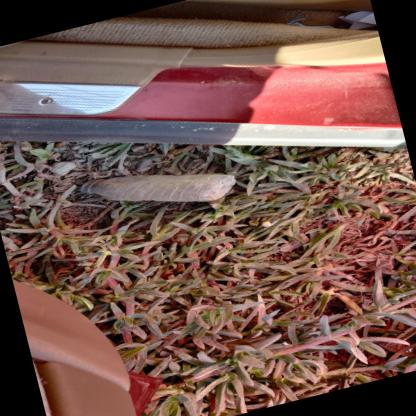Paper: (338, 10, 374, 28)
Plastic: (79, 173, 236, 201), (285, 9, 333, 27), (78, 178, 97, 192)
